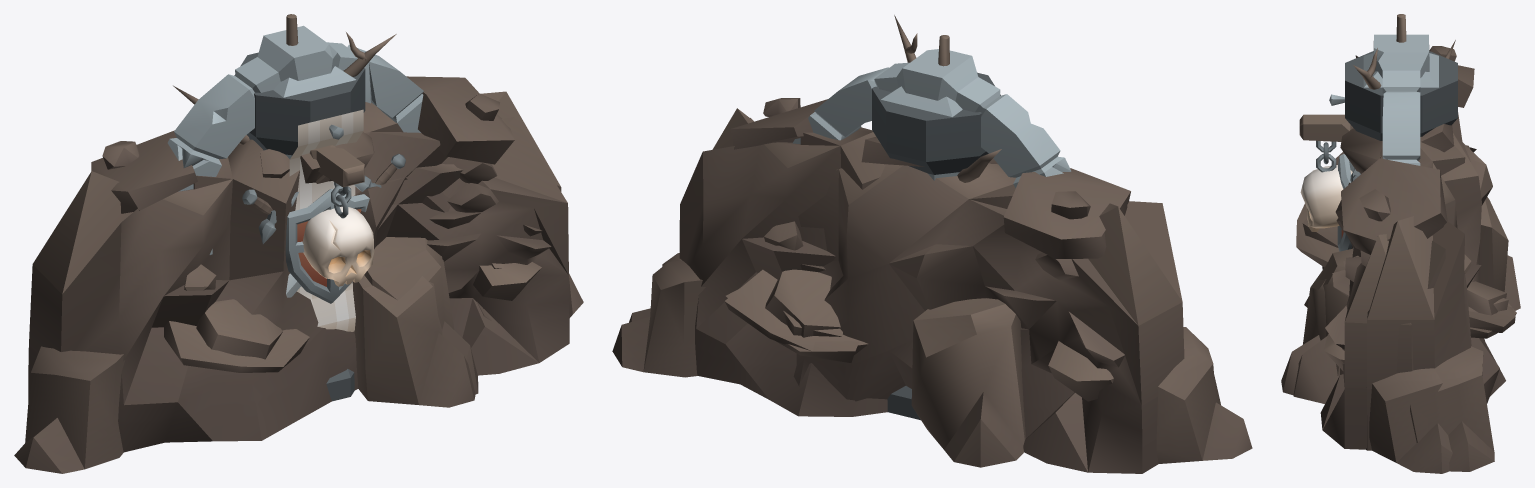
The model's file is decor.glb.
3 renders of one model, left to right at view 1: azimuth 30°, elevation 25°; view 2: azimuth 150°, elevation 25°; view 3: azimuth 270°, elevation 25°, orthographic. The views are drawn at different scales.
Parts seen in each view (by area): view 1: rubble_large, rubble_half, pillar_decorated, arch, post_skull_skull, post_skull, tree_dead_large, pillar; view 2: rubble_large, rubble_half, arch, pillar_decorated, tree_dead_large, pillar; view 3: rubble_half, rubble_large, arch, pillar_decorated, post_skull_skull, post_skull, pillar, tree_dead_large.
Part boxes in pixels (x1=…): rubble_large: x1=14, y1=117, x2=583, y2=473; rubble_half: x1=353, y1=76, x2=561, y2=394; pillar_decorated: x1=234, y1=52, x2=405, y2=401; arch: x1=167, y1=25, x2=423, y2=255; post_skull_skull: x1=302, y1=182, x2=374, y2=286; post_skull: x1=310, y1=145, x2=364, y2=187; tree_dead_large: x1=173, y1=14, x2=396, y2=144; pillar: x1=273, y1=66, x2=355, y2=97; rubble_large: x1=629, y1=118, x2=1252, y2=473; rubble_half: x1=612, y1=98, x2=887, y2=416; arch: x1=792, y1=49, x2=1071, y2=188; pillar_decorated: x1=872, y1=72, x2=1000, y2=420; tree_dead_large: x1=894, y1=15, x2=1001, y2=182; pillar: x1=881, y1=86, x2=962, y2=116; rubble_half: x1=1293, y1=142, x2=1515, y2=471; rubble_large: x1=1281, y1=46, x2=1520, y2=473; arch: x1=1373, y1=34, x2=1429, y2=165; pillar_decorated: x1=1329, y1=51, x2=1457, y2=251; post_skull_skull: x1=1300, y1=141, x2=1352, y2=231; post_skull: x1=1299, y1=114, x2=1353, y2=141; pillar: x1=1363, y1=53, x2=1438, y2=87; tree_dead_large: x1=1353, y1=14, x2=1455, y2=89.
Size of the model in its own units: 8.13 by 5.19 by 3.18.
Materials: 2 (2 with a texture image).
